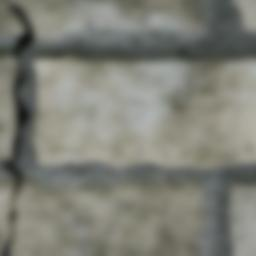brick: (33, 56, 255, 168), (228, 184, 255, 255), (0, 55, 16, 158), (232, 0, 255, 30)
broken_brick: (11, 177, 206, 255), (10, 0, 207, 39), (0, 178, 14, 250), (0, 0, 22, 35)
crack: (0, 0, 35, 255), (36, 147, 76, 157)
